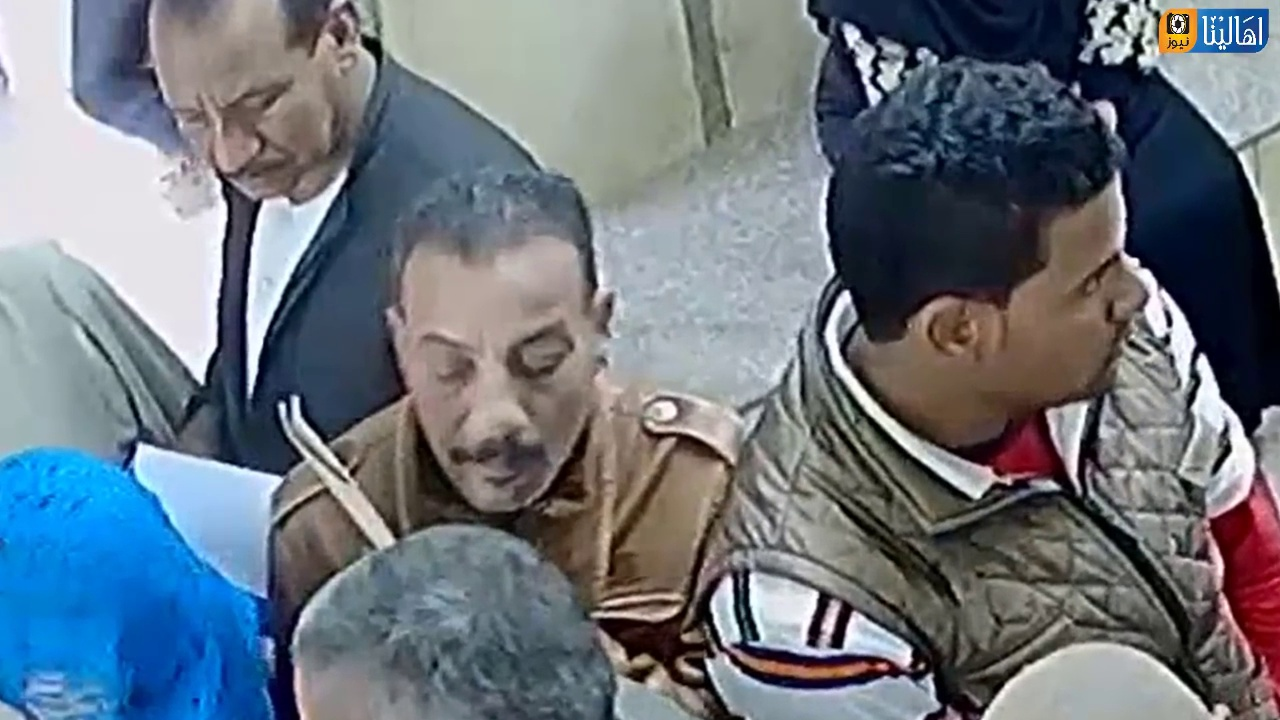face: (396, 255, 589, 500), (161, 4, 348, 207), (1024, 203, 1150, 406)
